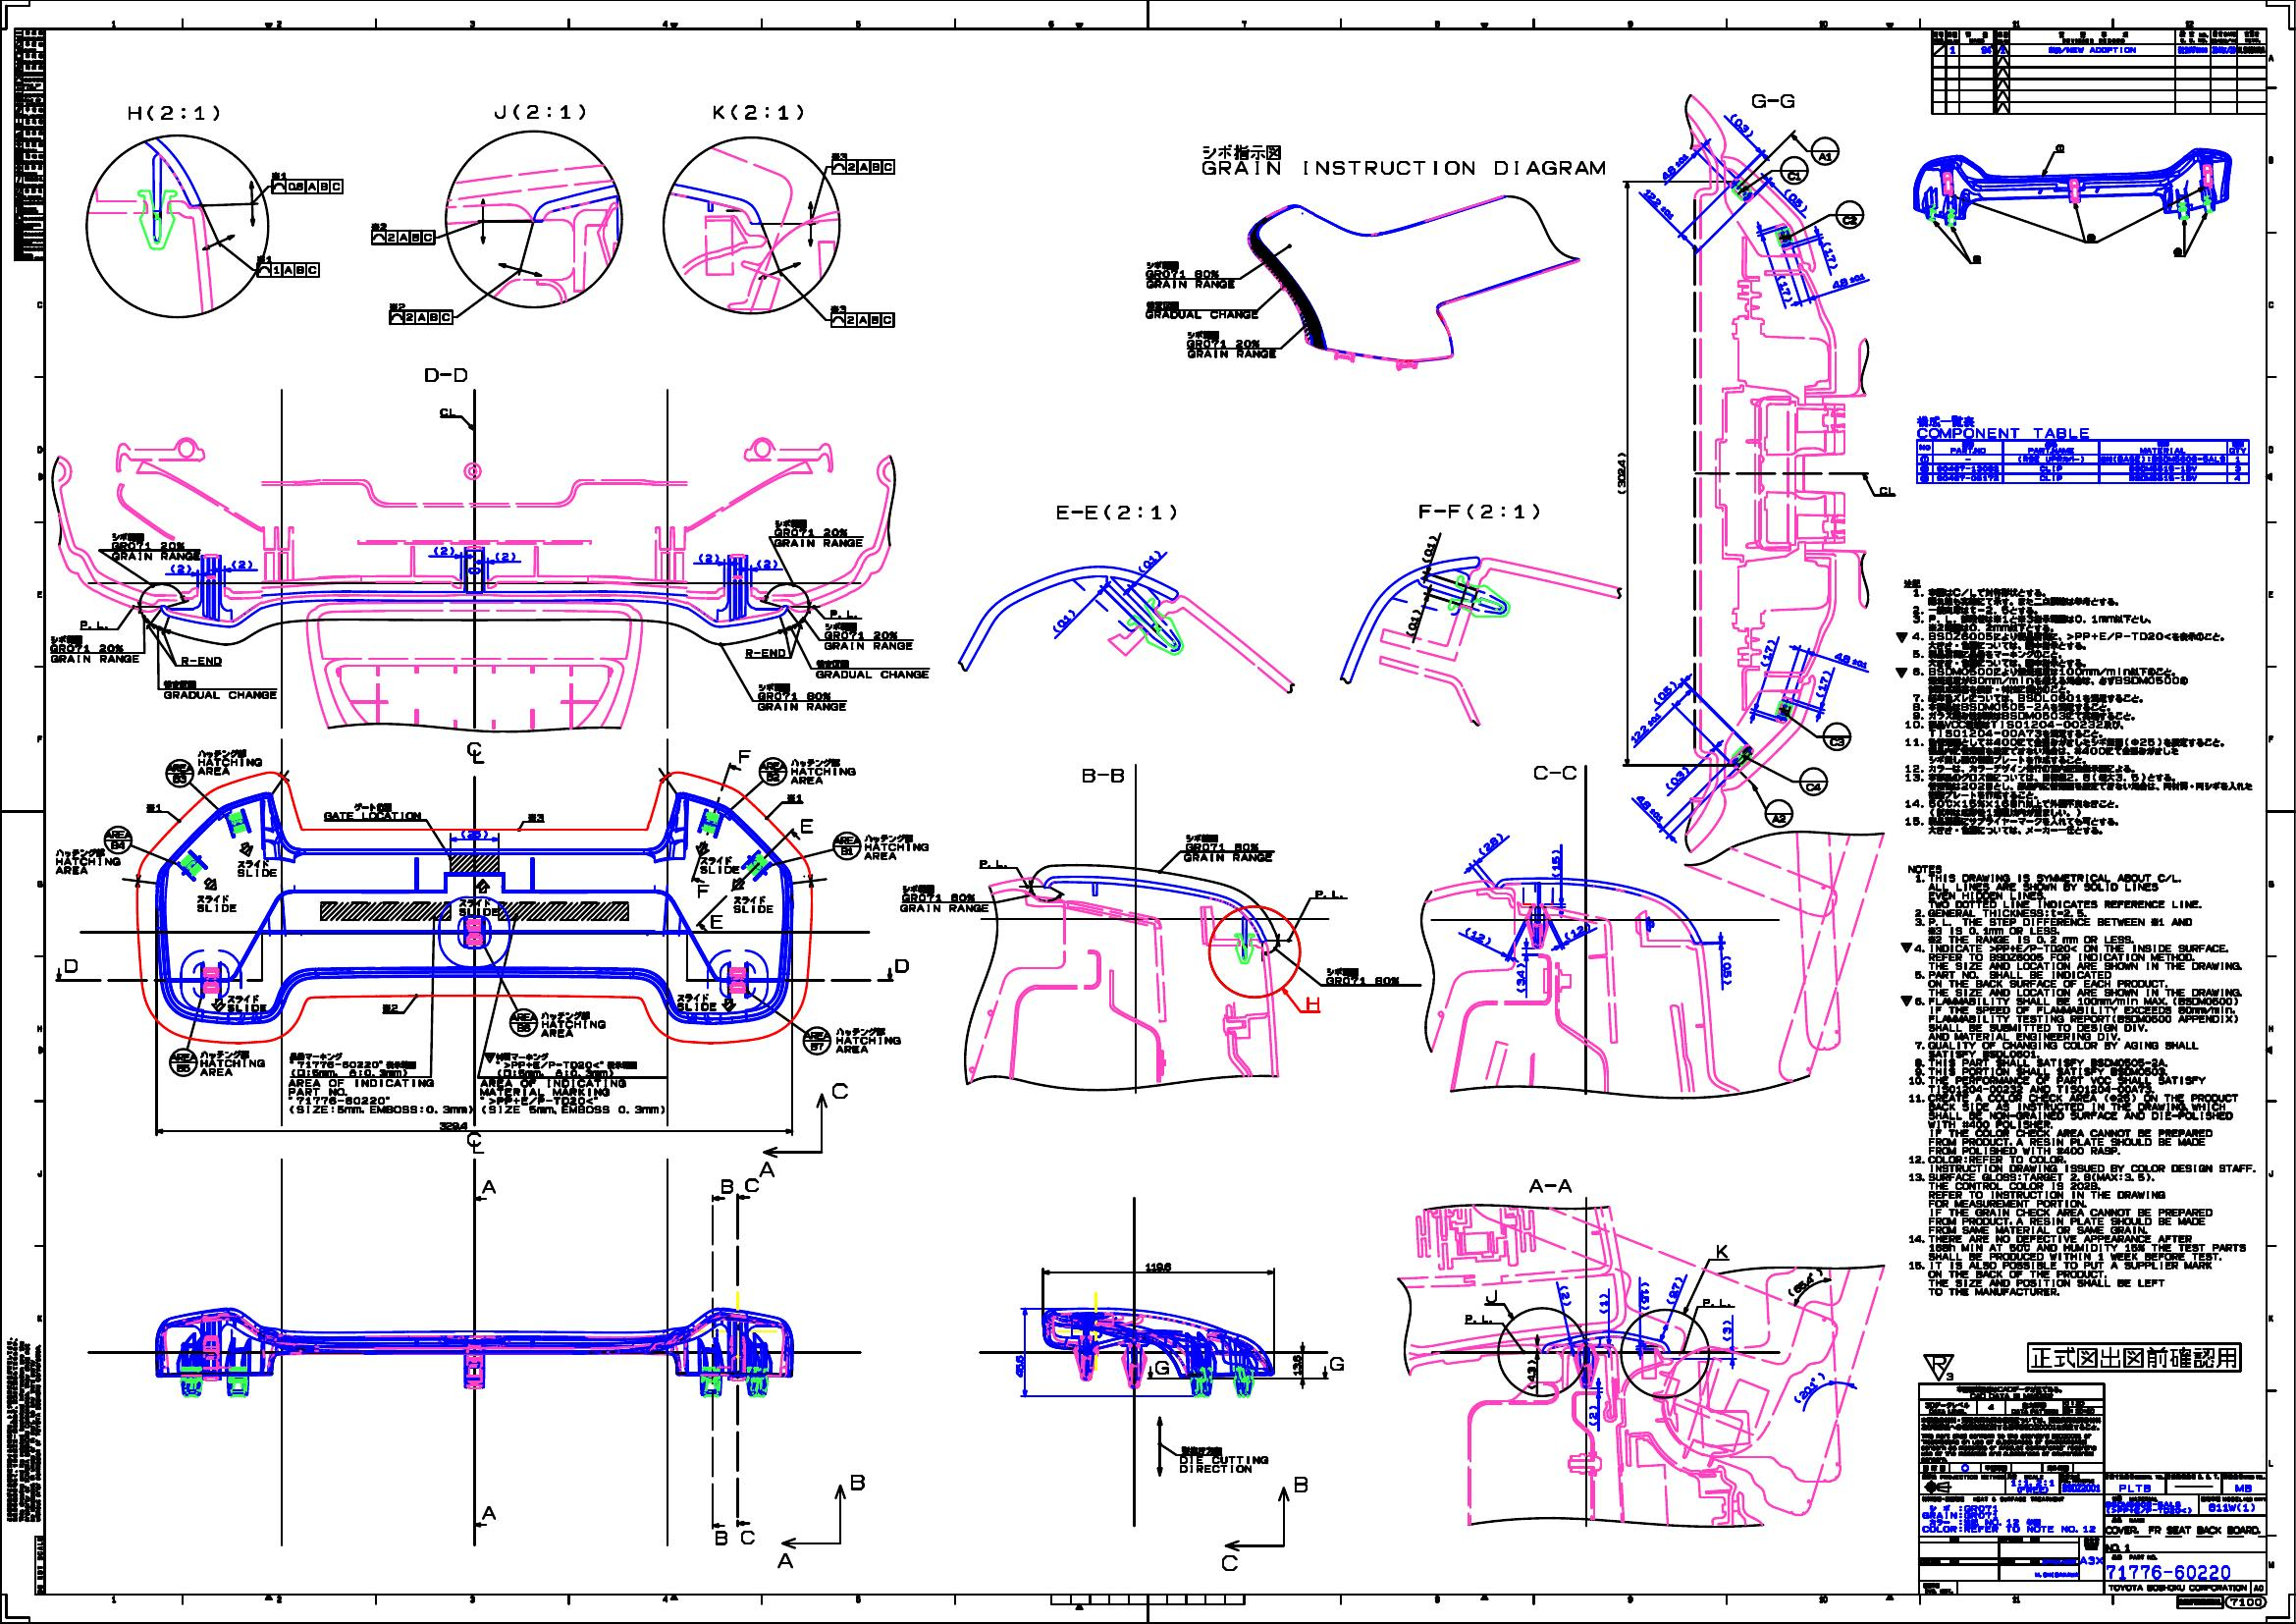anntotation_text: (1200, 142, 1607, 178), (2025, 1341, 2242, 1374), (5, 1336, 42, 1524), (480, 1079, 646, 1106), (1917, 415, 2090, 439), (288, 1077, 434, 1104), (771, 517, 863, 548), (1184, 833, 1274, 865), (49, 634, 139, 666), (111, 531, 200, 562), (1145, 260, 1237, 290), (1186, 330, 1277, 359), (822, 622, 913, 650), (899, 884, 989, 912), (757, 682, 847, 710), (495, 1051, 638, 1069), (813, 659, 929, 680), (163, 680, 278, 701), (1145, 299, 1258, 320), (1418, 501, 1539, 520), (288, 1051, 418, 1069), (323, 801, 423, 823), (123, 102, 221, 123), (269, 170, 346, 195), (1056, 504, 1175, 520), (834, 1026, 901, 1055), (54, 847, 121, 875), (708, 102, 805, 121), (791, 758, 856, 786), (494, 102, 585, 121), (539, 1011, 606, 1037), (863, 833, 929, 859), (199, 1049, 265, 1076), (197, 749, 262, 775), (827, 304, 896, 329), (369, 221, 436, 246), (1179, 1455, 1268, 1473), (829, 151, 896, 174), (388, 302, 453, 325), (255, 255, 320, 278), (1325, 967, 1398, 984), (1834, 199, 1866, 230), (801, 1025, 831, 1056), (163, 758, 195, 787), (1922, 1352, 1955, 1380), (508, 1007, 538, 1037), (757, 756, 787, 786), (1764, 798, 1794, 828), (1822, 721, 1852, 750), (1780, 155, 1809, 185), (1809, 135, 1839, 165), (831, 831, 863, 859), (676, 991, 717, 1012), (1799, 766, 1827, 796), (102, 824, 132, 852), (423, 366, 469, 383), (169, 1048, 197, 1076), (733, 895, 773, 914), (2175, 1594, 2224, 1610), (458, 898, 497, 917), (32, 1534, 44, 1594), (1532, 765, 1578, 780), (699, 856, 740, 874), (197, 895, 237, 912), (237, 859, 278, 877), (1080, 766, 1124, 782), (1528, 1178, 1572, 1193), (227, 993, 265, 1011), (1750, 93, 1795, 107), (2224, 1596, 2268, 1610), (467, 740, 485, 766), (179, 656, 221, 666), (745, 647, 787, 657), (1180, 1445, 1223, 1455), (466, 1132, 483, 1156), (775, 1552, 794, 1570), (79, 619, 111, 629), (1702, 1297, 1732, 1308), (757, 1160, 775, 1178), (831, 1081, 848, 1098), (480, 1504, 497, 1522), (1221, 1554, 1238, 1571), (978, 858, 1007, 868), (829, 608, 857, 619), (892, 958, 910, 974), (1330, 1355, 1346, 1373), (740, 1529, 755, 1545), (1305, 995, 1321, 1011), (63, 958, 79, 974), (481, 1179, 497, 1195), (799, 817, 813, 835), (1314, 889, 1342, 898), (850, 1473, 864, 1490), (1715, 1243, 1729, 1258), (170, 562, 191, 573), (232, 559, 253, 569), (1154, 1360, 1170, 1374), (1293, 1476, 1307, 1492), (745, 1178, 759, 1193), (720, 1178, 734, 1193), (715, 1529, 727, 1547), (432, 547, 455, 555), (710, 914, 724, 928), (738, 749, 750, 765), (527, 812, 545, 823), (697, 884, 710, 898), (495, 552, 515, 561), (439, 406, 457, 415), (381, 1002, 399, 1011), (787, 793, 803, 801), (1878, 485, 1894, 494), (146, 801, 162, 810), (2085, 232, 2096, 243), (2173, 246, 2182, 257), (1971, 255, 1982, 264), (2055, 142, 2064, 151)
dimension_text: (297, 1104, 467, 1114), (487, 1106, 659, 1114), (502, 1069, 608, 1077), (297, 1069, 402, 1077), (1639, 199, 1681, 211), (1829, 274, 1867, 285), (1632, 801, 1667, 812), (1727, 118, 1757, 130), (1669, 149, 1679, 183), (1641, 708, 1650, 747), (1616, 459, 1627, 489), (1834, 656, 1869, 664), (1144, 1260, 1172, 1271), (437, 1120, 469, 1128), (1799, 1269, 1809, 1295), (1463, 1313, 1493, 1322), (1802, 1376, 1813, 1401), (1483, 1287, 1498, 1302), (1291, 1353, 1302, 1376), (1015, 1353, 1024, 1378), (1484, 833, 1495, 852), (1669, 1281, 1679, 1301), (1816, 675, 1827, 692), (1762, 643, 1773, 661), (1780, 281, 1790, 297), (1790, 192, 1801, 207), (1514, 970, 1525, 986), (1825, 246, 1834, 264), (1660, 684, 1669, 701), (1672, 768, 1681, 786), (1527, 1366, 1535, 1383), (1425, 541, 1433, 557), (1407, 615, 1416, 631), (1723, 961, 1732, 977), (1569, 926, 1585, 935), (1551, 856, 1560, 872), (1470, 932, 1486, 940), (1641, 1288, 1650, 1304), (1560, 1290, 1569, 1301), (1599, 1299, 1607, 1308), (1723, 1327, 1732, 1334), (1590, 1411, 1597, 1418)
object: (49, 436, 896, 733), (135, 772, 812, 1046), (1395, 1202, 1885, 1527), (1681, 93, 1873, 856), (1418, 831, 1885, 1100), (963, 863, 1281, 1091), (1245, 192, 1583, 373), (153, 1306, 796, 1399), (1337, 555, 1621, 728), (956, 564, 1295, 694), (86, 134, 271, 318), (443, 128, 624, 308), (662, 135, 841, 315), (1911, 146, 2233, 228), (1042, 1308, 1274, 1399)
title_block: (1892, 576, 2256, 1297), (1917, 1381, 2268, 1594), (1931, 26, 2266, 114), (1917, 438, 2250, 483)
